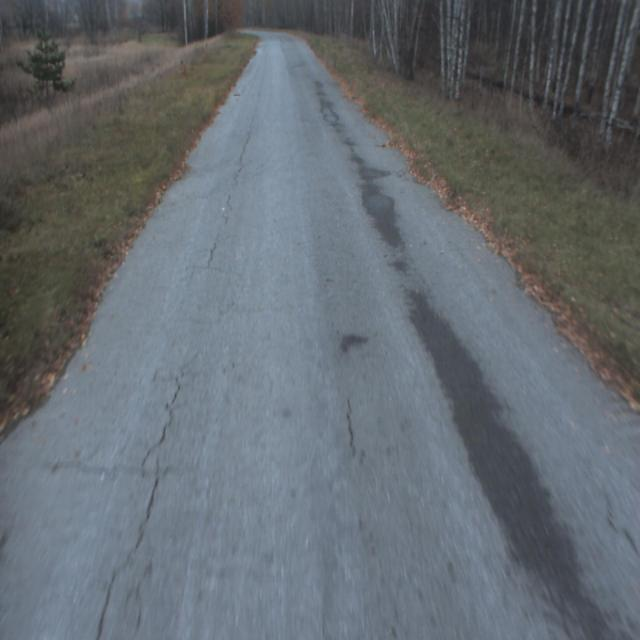road: (0, 30, 639, 639)
